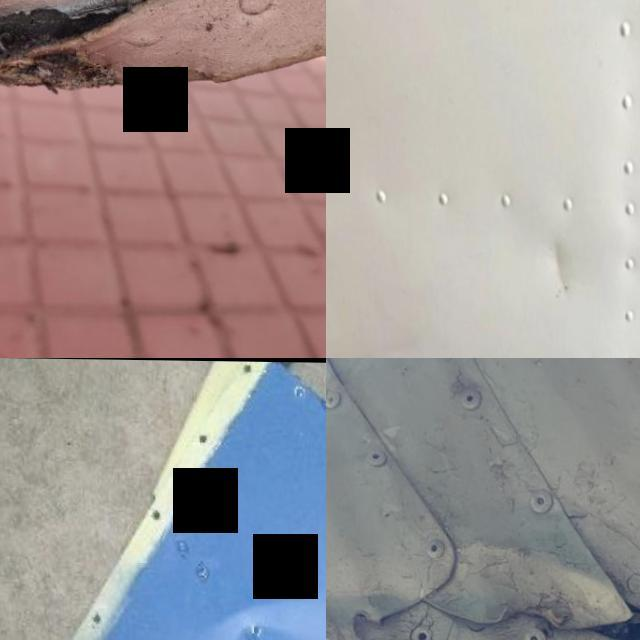Crack: (0, 0, 145, 95), (474, 594, 572, 636)
Dent: (203, 590, 326, 640), (541, 238, 565, 297)
